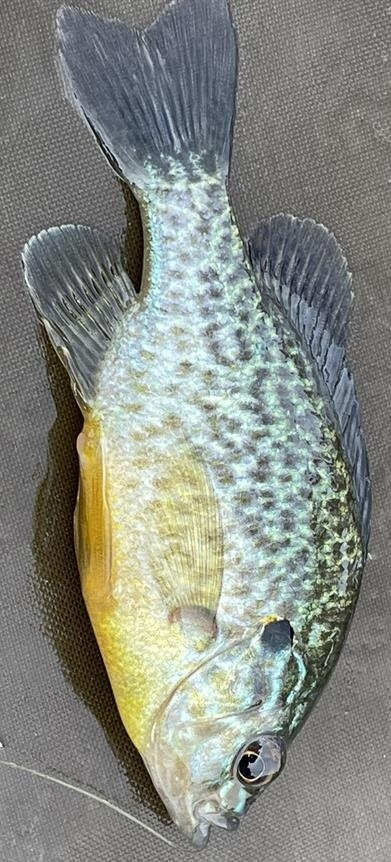Lepomis gibbosus: (20, 1, 371, 842)
